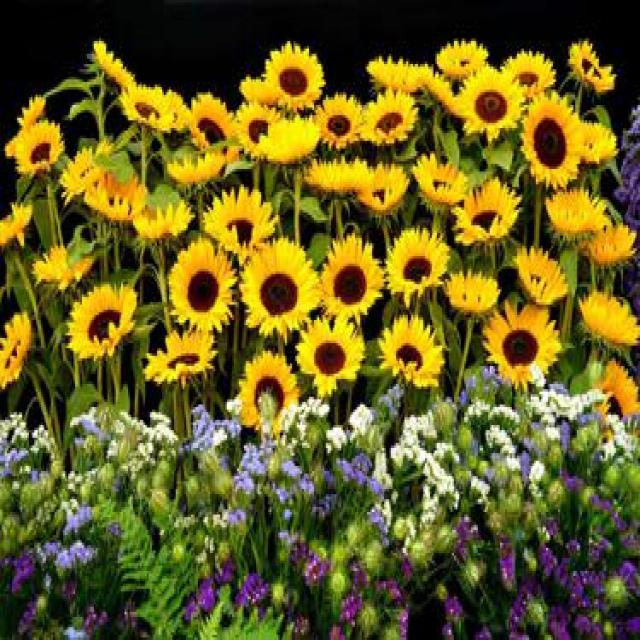sunflower: (373, 206, 451, 314), (244, 236, 317, 348), (289, 301, 376, 393), (486, 293, 560, 388), (376, 305, 448, 399), (315, 236, 393, 320), (522, 90, 584, 194), (167, 241, 237, 330), (234, 336, 295, 436), (204, 187, 277, 269), (176, 78, 244, 165), (259, 37, 326, 124), (66, 283, 137, 365), (459, 59, 527, 141), (136, 322, 224, 382), (448, 175, 513, 247), (118, 69, 181, 138), (597, 356, 640, 448), (314, 82, 365, 159), (365, 85, 422, 151), (84, 167, 148, 224), (519, 242, 570, 308), (568, 35, 616, 101), (0, 302, 36, 389), (237, 90, 275, 172), (11, 115, 64, 169), (435, 30, 488, 84), (495, 49, 560, 92)
